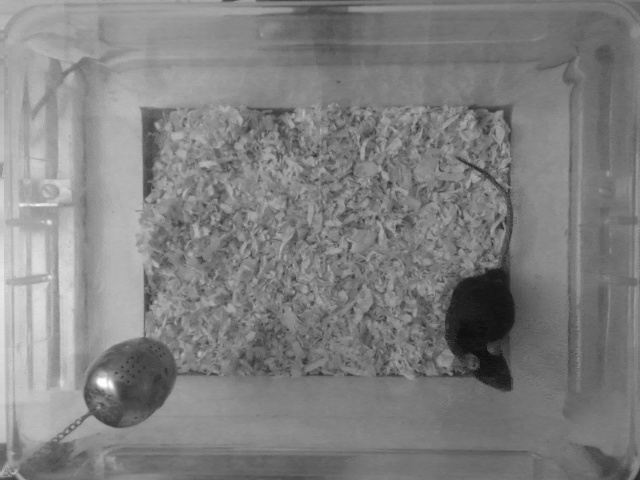mice: (440, 149, 524, 402)
